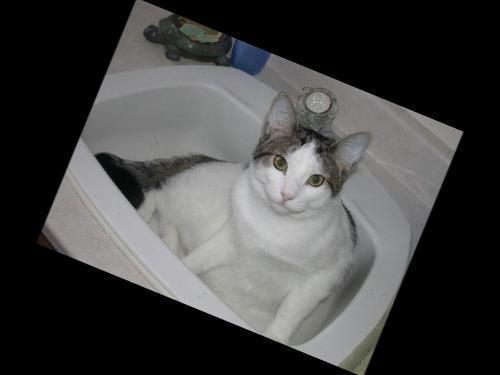Lavamanos: (37, 17, 455, 375)
